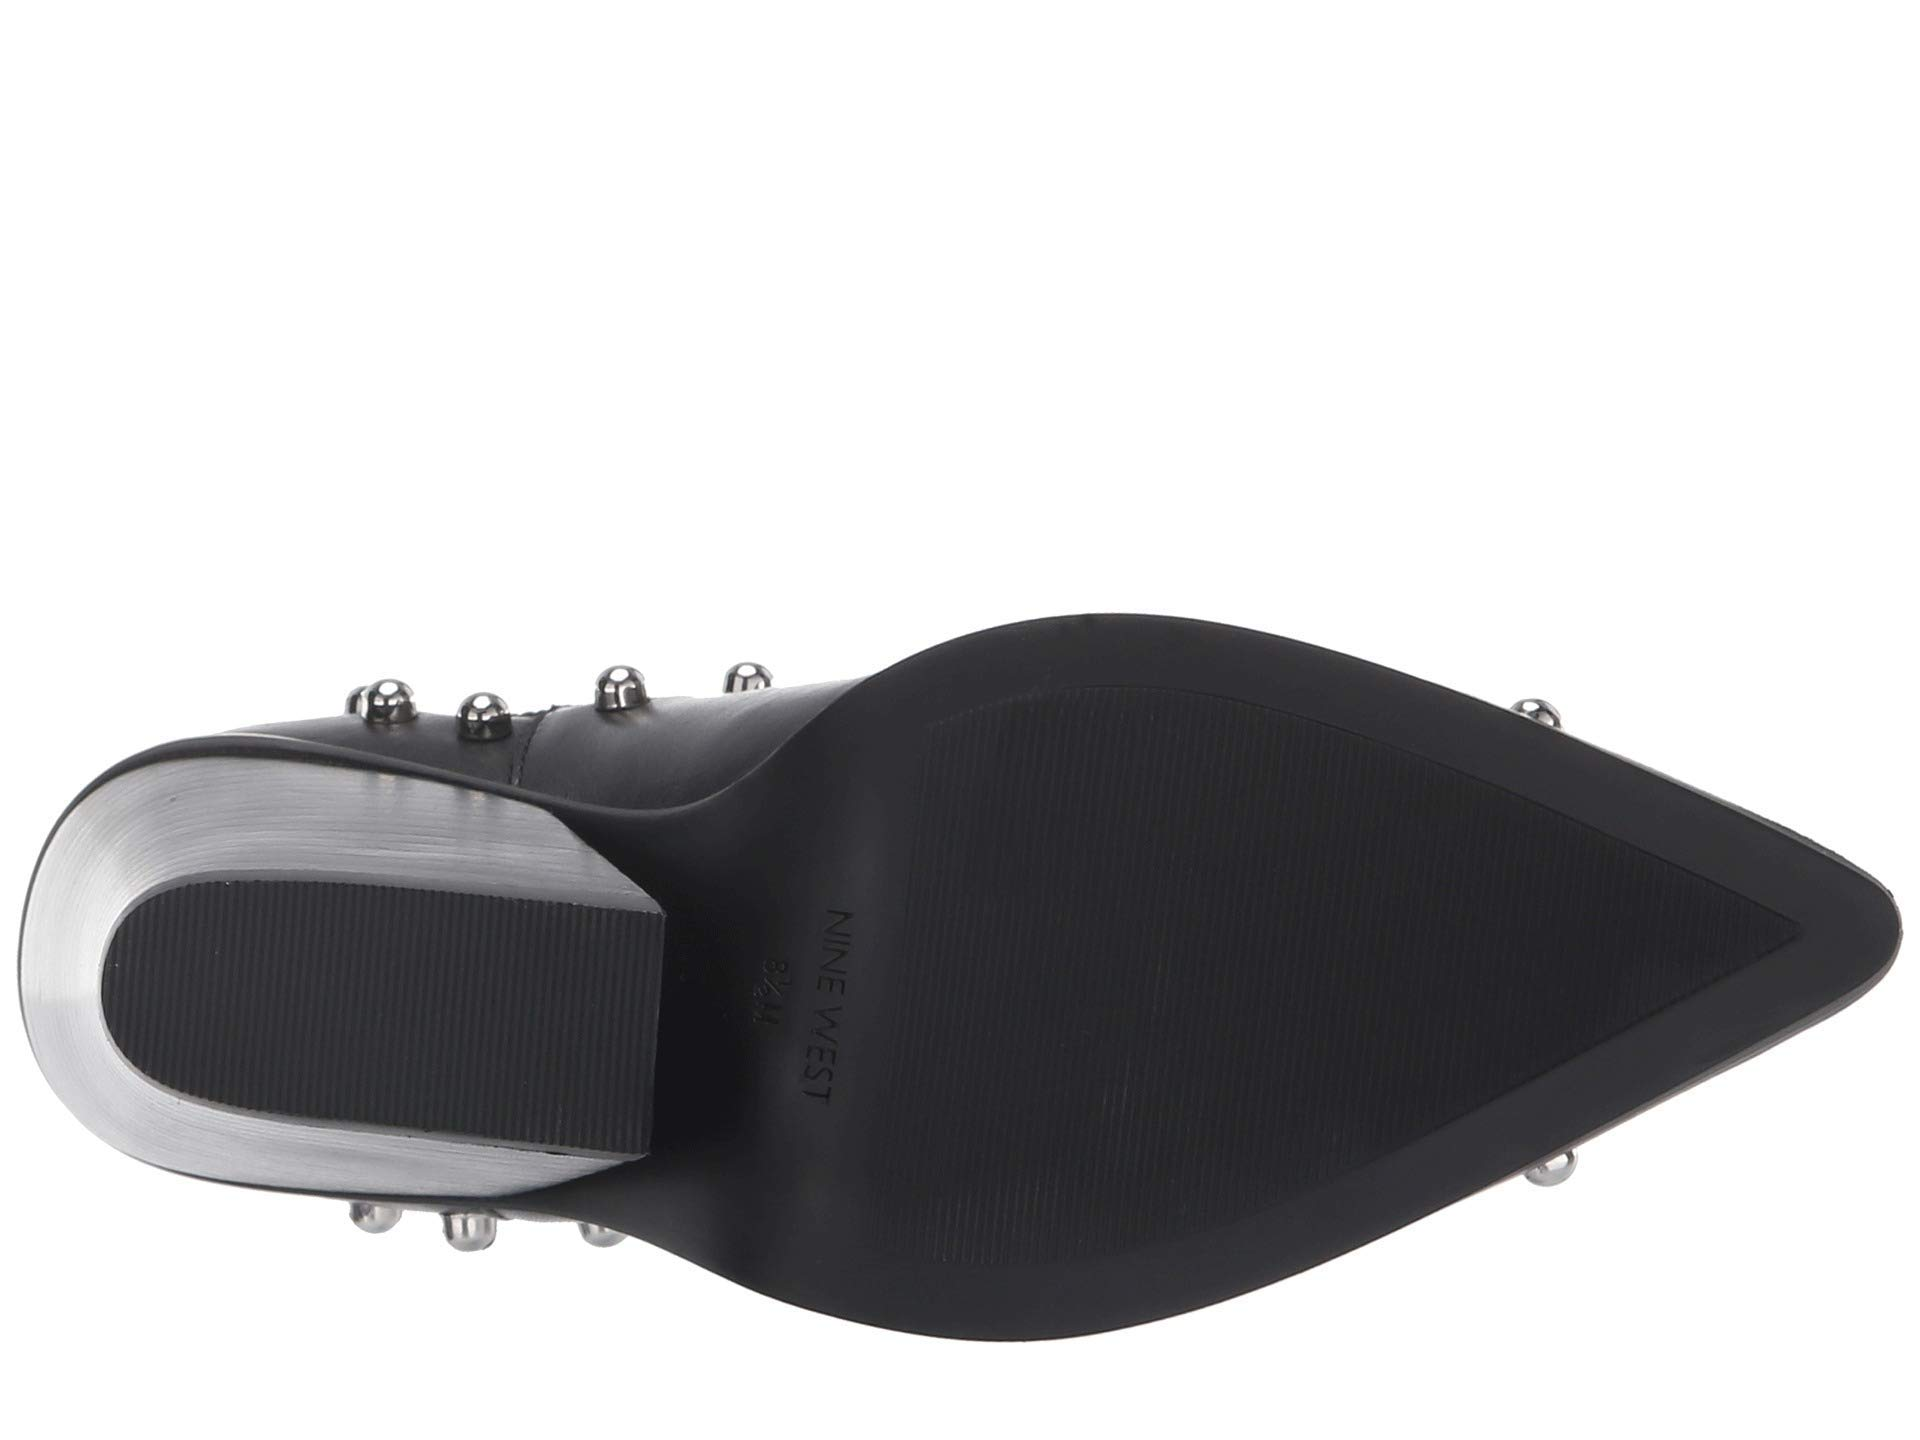line: (124, 886, 655, 1151)
